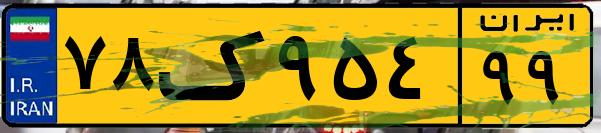4: (385, 28, 445, 110)
5: (330, 28, 385, 110)
7: (57, 26, 110, 100)
8: (110, 28, 158, 98)
9: (270, 28, 330, 110), (475, 38, 525, 113), (525, 38, 570, 115)
ک: (158, 12, 270, 120)
